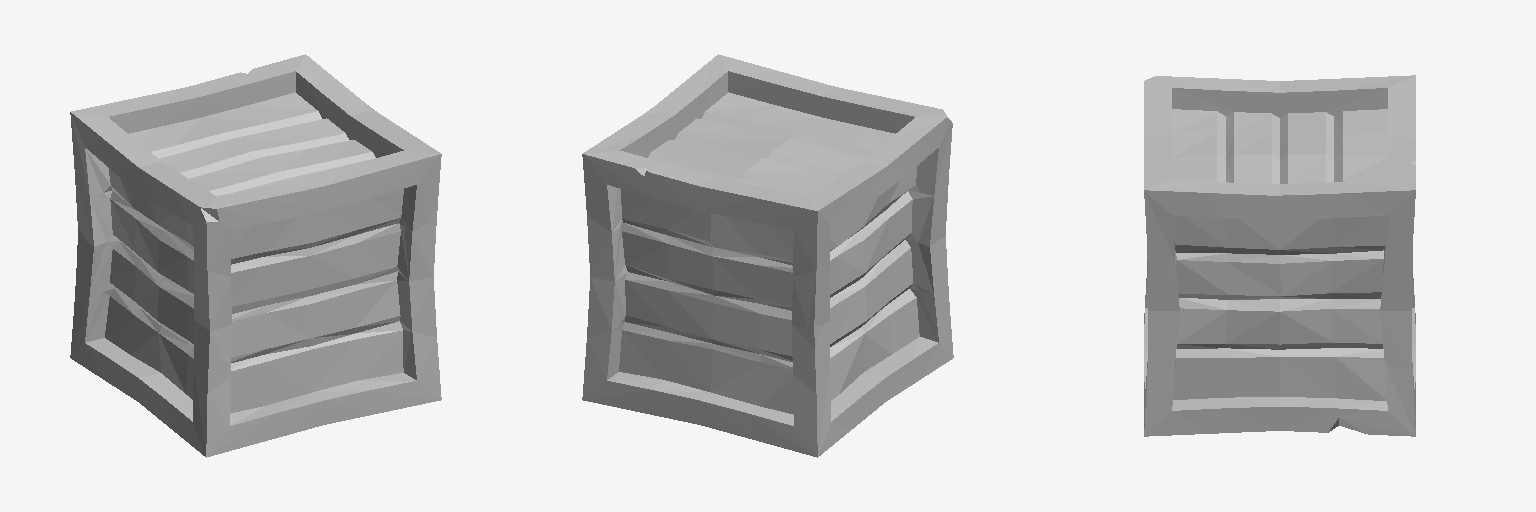
The model's file is crate_broken.obj.
3 views of the same model, side by side, from view 1: azimuth 30°, elevation 25°; view 2: azimuth 150°, elevation 25°; view 3: azimuth 270°, elevation 25° (orthographic).
Visible parts, largest first — view 1: Cube; view 2: Cube; view 3: Cube.
Boxes of the visible parts, box(x1,y1,x2,y2) form: Cube: box(70, 54, 441, 457); Cube: box(582, 54, 953, 457); Cube: box(1144, 75, 1415, 436).
Bounding box in the file's own units: 2 × 2 × 2.